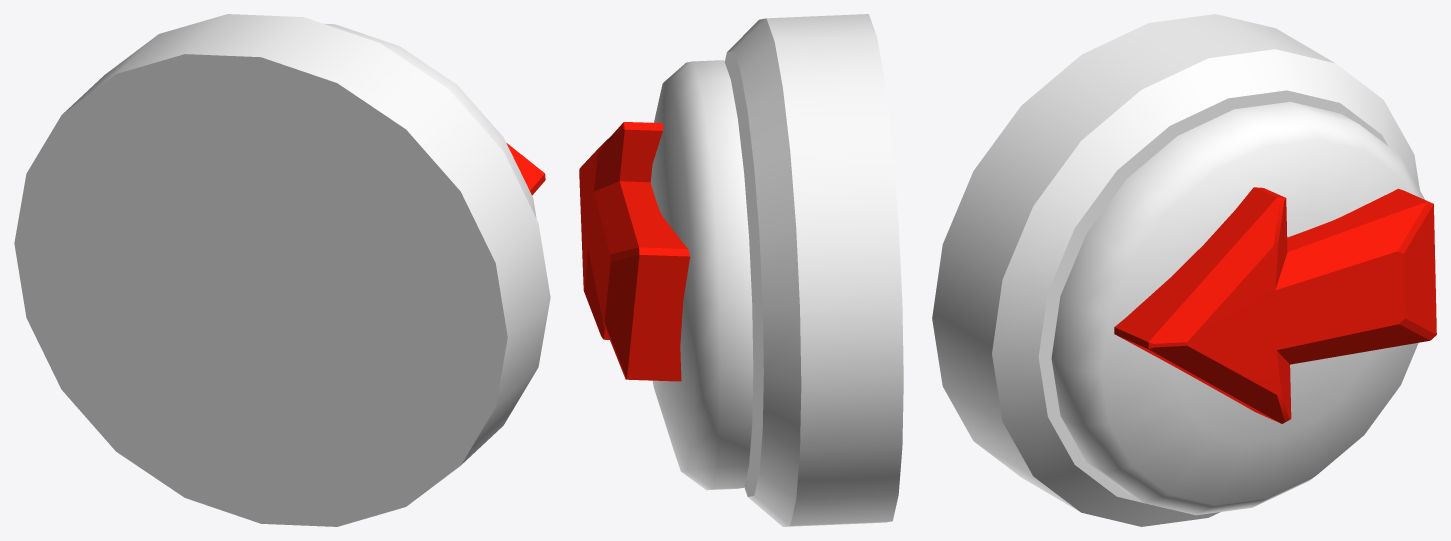
File: Delete.fbx
3 renders of one model, left to right at view 1: azimuth 30°, elevation 25°; view 2: azimuth 150°, elevation 25°; view 3: azimuth 270°, elevation 25°, orthographic.
Visible parts, largest first — view 1: Delete, ButtonTop01, Arrow (1); view 2: Delete, ButtonTop01, Arrow (1); view 3: Delete, ButtonTop01, Arrow (1).
Boxes of the visible parts, x1,y1,x2,y2 form: Delete: (14, 14, 550, 526); ButtonTop01: (324, 23, 536, 218); Arrow (1): (506, 143, 545, 195); Delete: (724, 14, 903, 526); ButtonTop01: (650, 60, 753, 490); Arrow (1): (579, 122, 690, 381); Delete: (932, 14, 1419, 526); ButtonTop01: (1051, 101, 1424, 515); Arrow (1): (1114, 187, 1436, 423).
Size of the model in its own units: 1.82 by 1.93 by 1.92.
